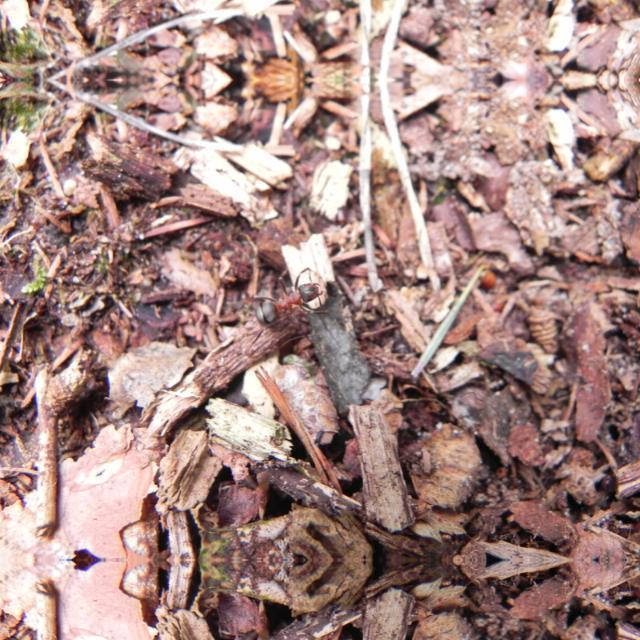Formica: (254, 274, 332, 332)
